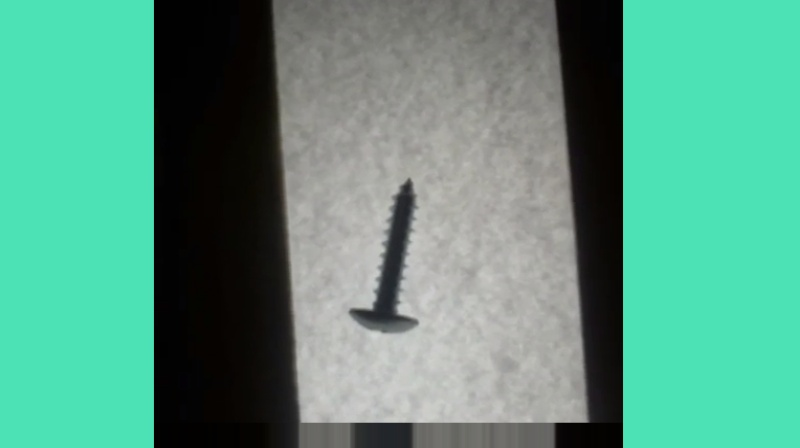S003: (346, 175, 422, 336)
